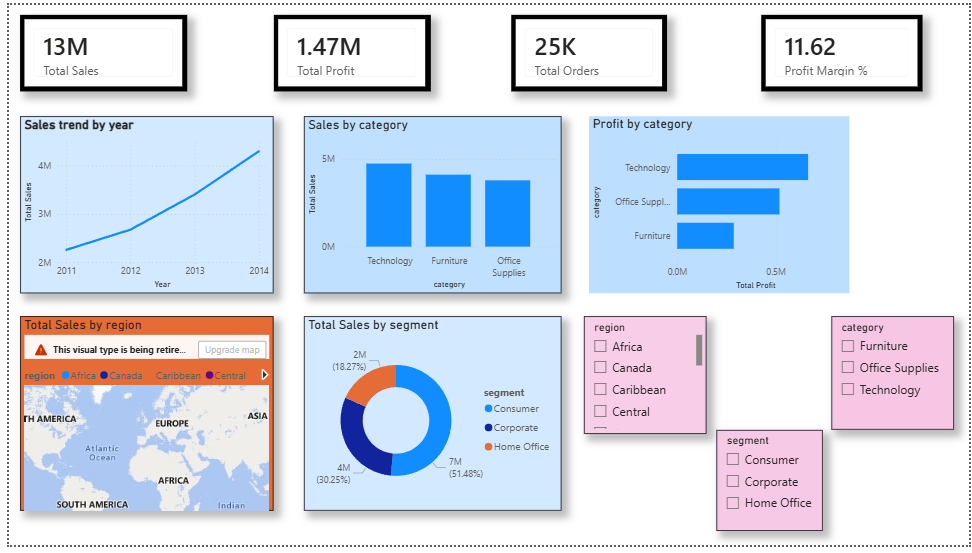

This screenshot's page, from the dashboard's own definition file:
{"tool":"powerbi","page":{"name":"Executive Overview","canvas":[1280,720],"ordinal":0},"visuals":[{"type":"cardVisual","fields":{"Data":["SuperStoreOrders.Total Sales"]},"box":[15.1,13.7,222.3,101.5],"z":0},{"type":"cardVisual","fields":{"Data":["SuperStoreOrders.Total Profit"]},"box":[352.7,13.7,208.6,101.5],"z":1},{"type":"cardVisual","fields":{"Data":["SuperStoreOrders.Total Orders"]},"box":[669.6,13.7,207.2,101.5],"z":2},{"type":"cardVisual","fields":{"Data":["SuperStoreOrders.Profit Margin %"]},"box":[1003.1,13.7,214.1,101.5],"z":3},{"type":"lineChart","title":"Sales trend by year","fields":{"Category":["SuperStoreOrders.order_date.Variation.Date Hierarchy.Year","SuperStoreOrders.order_date.Variation.Date Hierarchy.Quarter","SuperStoreOrders.order_date.Variation.Date Hierarchy.Month","SuperStoreOrders.order_date.Variation.Date Hierarchy.Day"],"Y":["SuperStoreOrders.Total Sales"]},"box":[15.1,148.2,337.6,236],"z":4},{"type":"clusteredColumnChart","title":"Sales by category","fields":{"Category":["SuperStoreOrders.category"],"Y":["SuperStoreOrders.Total Sales"]},"box":[393.8,148.2,343.1,236],"z":5},{"type":"barChart","title":"Profit by category","fields":{"Category":["SuperStoreOrders.category"],"Y":["SuperStoreOrders.Total Profit"]},"box":[773.9,148.2,347.2,236],"z":6},{"type":"map","fields":{"Series":["SuperStoreOrders.region"],"Size":["SuperStoreOrders.Total Sales"]},"box":[15.1,414.4,337.6,259.3],"z":7},{"type":"donutChart","fields":{"Category":["SuperStoreOrders.segment"],"Y":["SuperStoreOrders.Total Sales"]},"box":[393.8,414.4,343.1,259.3],"z":8},{"type":"slicer","fields":{"Values":["SuperStoreOrders.region"]},"box":[767.1,414.4,163.3,156.4],"z":9},{"type":"slicer","fields":{"Values":["SuperStoreOrders.category"]},"box":[1096.4,414.4,163.3,150.9],"z":10},{"type":"slicer","fields":{"Values":["SuperStoreOrders.segment"]},"box":[944.1,566.7,141.3,134.5],"z":11}]}

Visuals, with their boxes in screenshot pixels (x1, y1, x2, y2), scaled from the page's 1280x720 canvas onto the 972x553 screenshot:
cardVisual - SuperStoreOrders.Total Sales: bbox=[11, 11, 180, 88]
cardVisual - SuperStoreOrders.Total Profit: bbox=[268, 11, 426, 88]
cardVisual - SuperStoreOrders.Total Orders: bbox=[508, 11, 666, 88]
cardVisual - SuperStoreOrders.Profit Margin %: bbox=[762, 11, 924, 88]
"Sales trend by year" lineChart: bbox=[11, 114, 268, 295]
"Sales by category" clusteredColumnChart: bbox=[299, 114, 560, 295]
"Profit by category" barChart: bbox=[588, 114, 851, 295]
map - SuperStoreOrders.region x SuperStoreOrders.Total Sales: bbox=[11, 318, 268, 517]
donutChart - SuperStoreOrders.segment x SuperStoreOrders.Total Sales: bbox=[299, 318, 560, 517]
slicer - SuperStoreOrders.region: bbox=[583, 318, 707, 438]
slicer - SuperStoreOrders.category: bbox=[833, 318, 957, 434]
slicer - SuperStoreOrders.segment: bbox=[717, 435, 824, 539]
